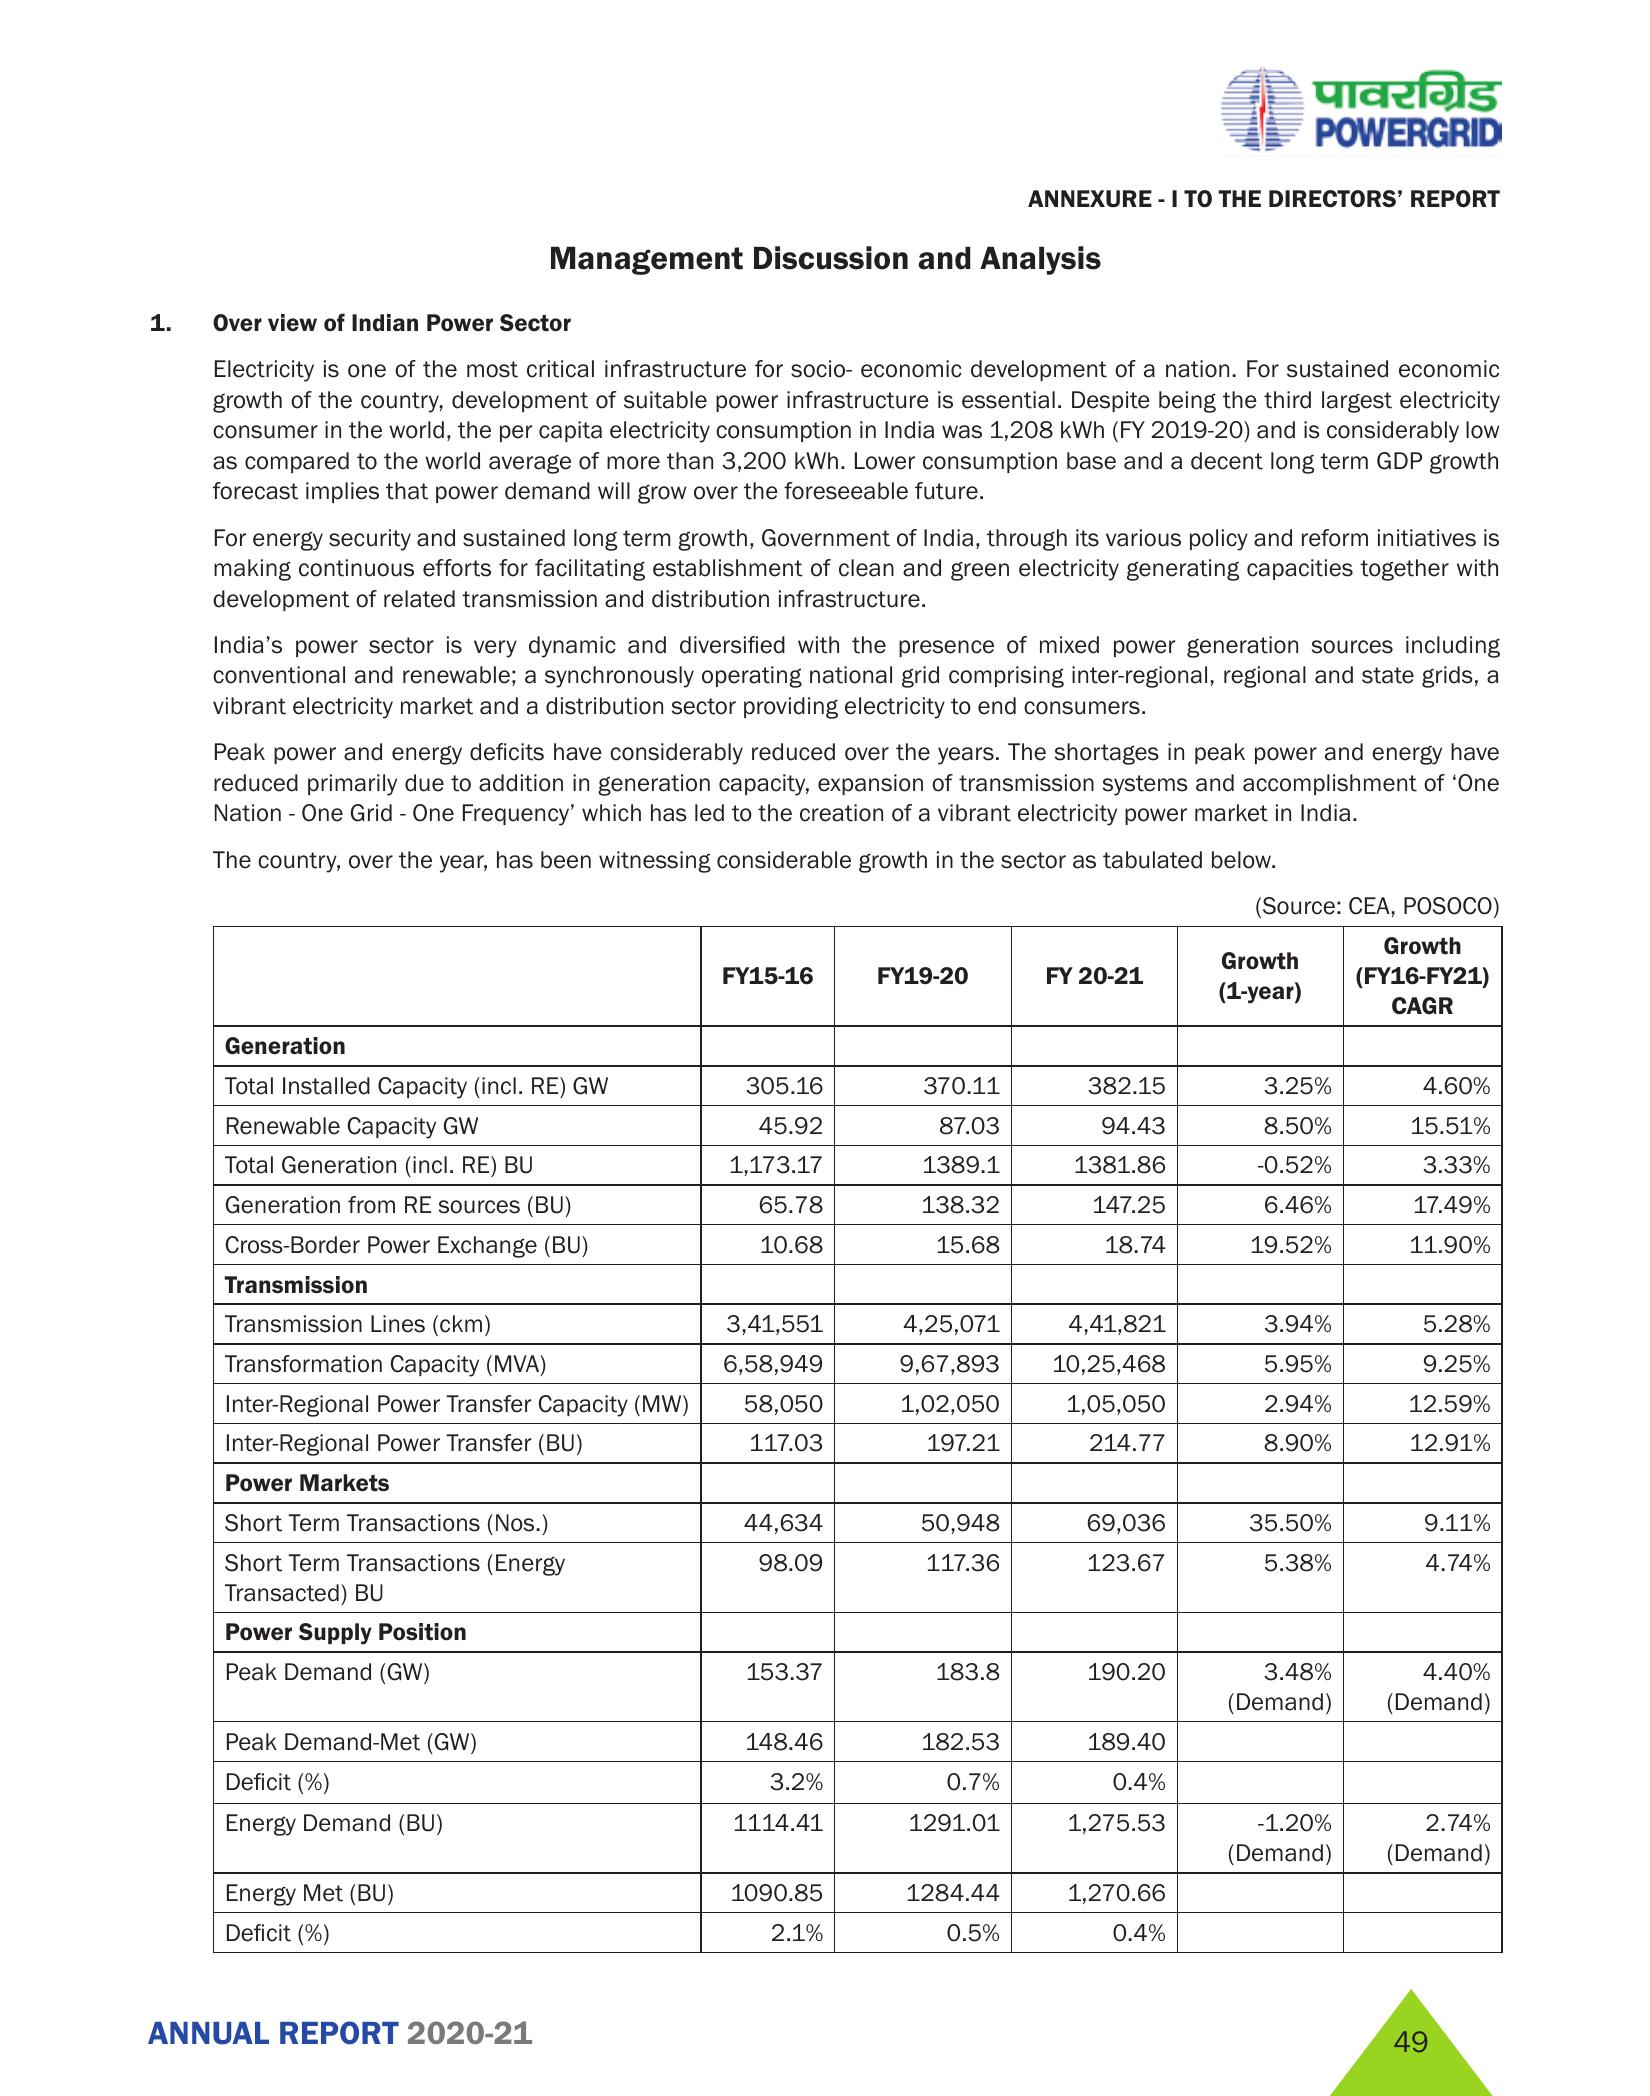Footer: (0, 1982, 1650, 2096)
Header: (0, 0, 1650, 172)
Table: (130, 883, 1569, 1973)
